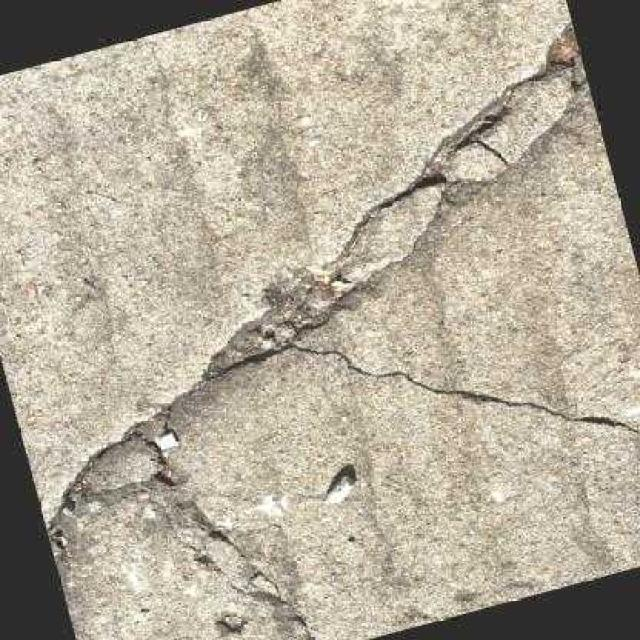D00: (332, 16, 575, 269), (191, 338, 640, 444), (193, 520, 328, 640)
